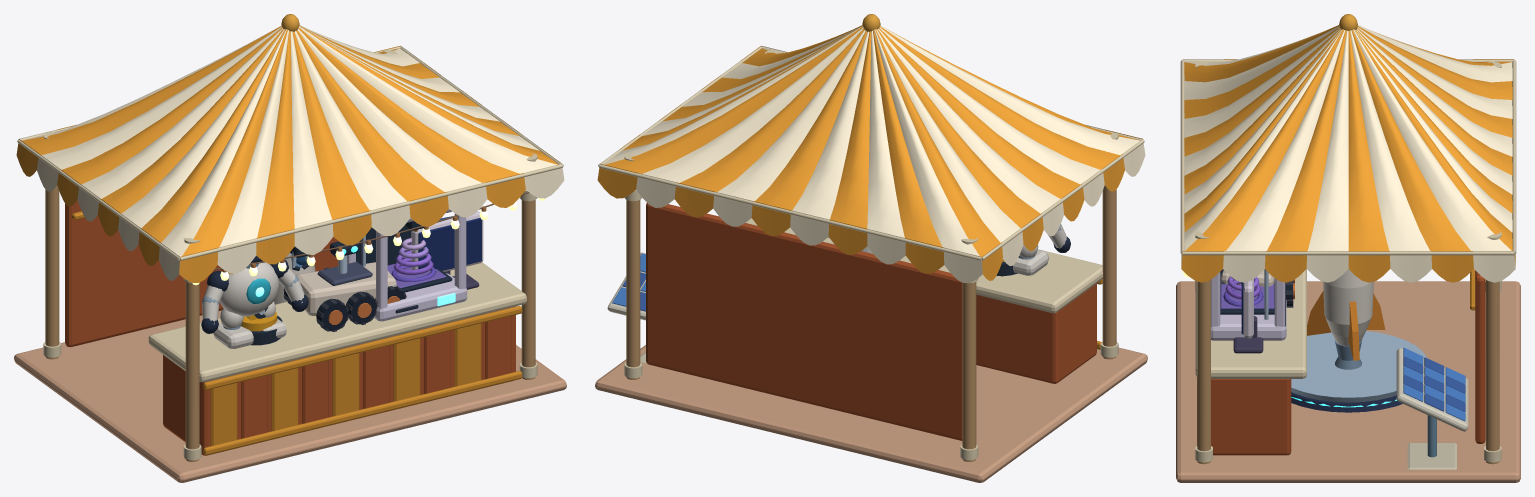
Rendered from festival-stalls.glb.
The picture shows the model from 3 angles, left to right: view 1: azimuth 30°, elevation 25°; view 2: azimuth 150°, elevation 25°; view 3: azimuth 270°, elevation 25°; orthographic projection. The views are drawn at different scales.
Visible parts, largest first — view 1: Robotics exhibition paint, Robotics exhibition cloth, STEM workshop paint, Robotics exhibition rubber, Robotics exhibition lamp, Robotics exhibition metal; view 2: Robotics exhibition paint, Robotics exhibition cloth; view 3: Robotics exhibition cloth, Robotics exhibition paint, Rocket and photovoltaic exhibit paint, STEM workshop paint, Rocket and photovoltaic exhibit lens, Rocket and photovoltaic exhibit rubber, Rocket and photovoltaic exhibit metal.
Part boxes in pixels (bbox=[...]): Robotics exhibition paint: bbox=[14, 14, 566, 482]; Robotics exhibition cloth: bbox=[16, 25, 564, 282]; STEM workshop paint: bbox=[228, 209, 467, 345]; Robotics exhibition rubber: bbox=[213, 192, 529, 331]; Robotics exhibition lamp: bbox=[192, 198, 544, 285]; Robotics exhibition metal: bbox=[202, 206, 486, 329]; Robotics exhibition paint: bbox=[595, 14, 1147, 482]; Robotics exhibition cloth: bbox=[597, 25, 1145, 282]; Robotics exhibition cloth: bbox=[1181, 25, 1515, 282]; Robotics exhibition paint: bbox=[1176, 14, 1520, 482]; Rocket and photovoltaic exhibit paint: bbox=[1291, 269, 1468, 431]; STEM workshop paint: bbox=[1211, 272, 1286, 340]; Rocket and photovoltaic exhibit lens: bbox=[1403, 347, 1465, 421]; Rocket and photovoltaic exhibit rubber: bbox=[1407, 443, 1456, 469]; Rocket and photovoltaic exhibit metal: bbox=[1335, 340, 1436, 457].
Bounding box in the file's own units: 5 × 4.31 × 3.62.
